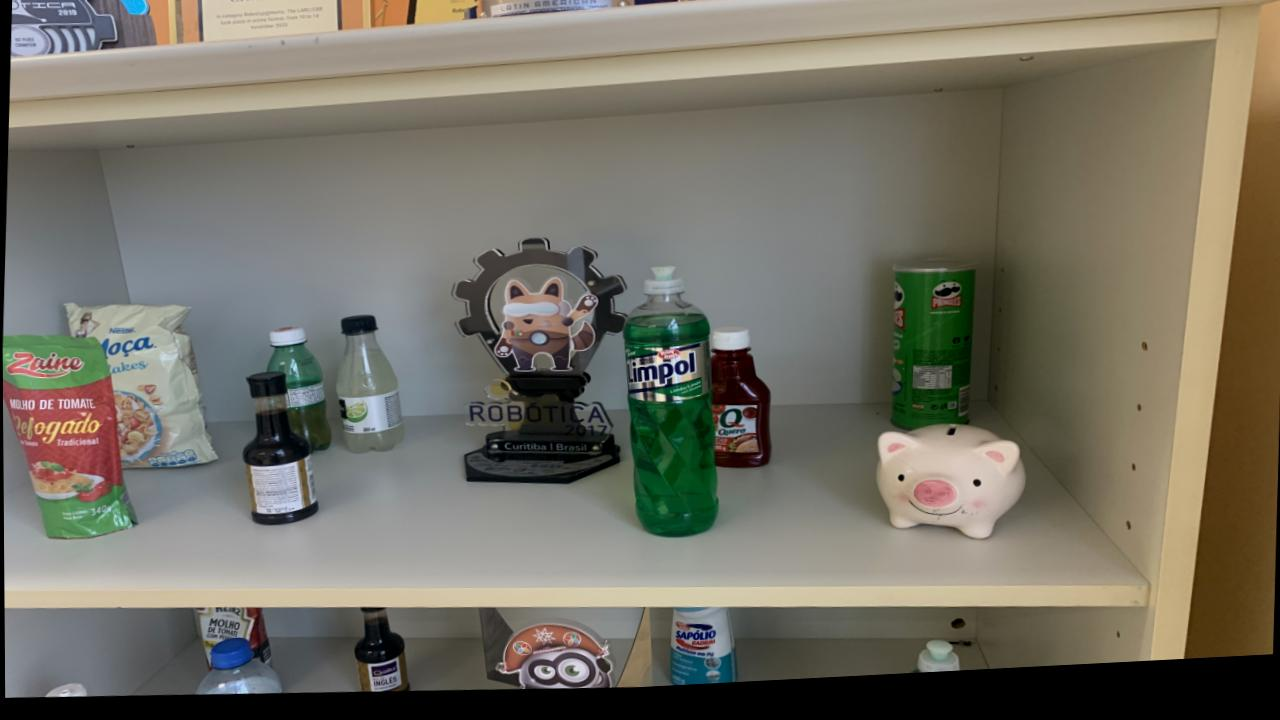Cleaner-Cleanup_Items: (669, 615, 735, 693)
Detergent-Cleanup_Items: (622, 276, 717, 544), (909, 649, 960, 683)
English_Sauce-Pantry_Items: (241, 374, 317, 528), (353, 611, 409, 696)
Flakes-Snacks: (65, 303, 216, 470)
Guarana-Drinks: (266, 330, 330, 454)
Ketchup-Pantry_Items: (710, 335, 771, 476)
Pig_Safe-Miscellaneous: (875, 435, 1025, 550)
Pringles-Snacks: (891, 270, 976, 439)
Soda-Drinks: (335, 319, 404, 458)
Tomato_Sauce-Pantry_Items: (2, 336, 137, 540), (194, 610, 271, 668)
Trophy-Miscellaneous: (453, 244, 626, 488)
Water_Bottle-Drinks: (194, 640, 280, 697)
